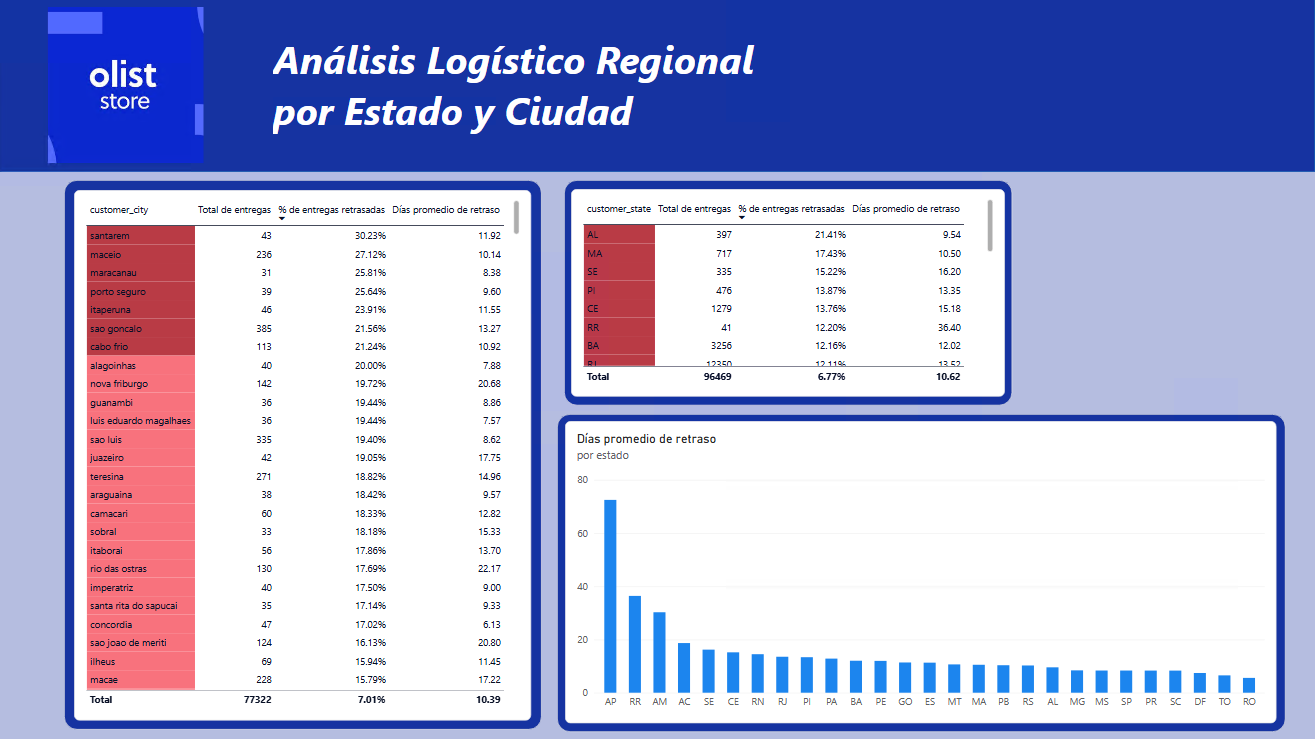

Layout of this report page (visuals, bound fields, positions):
{"tool":"powerbi","page":{"name":"Recuento","canvas":[1920,1080],"ordinal":1},"visuals":[{"type":"kpi","title":"Filtros","fields":{"Indicator":["Medidas.% de entregas retrasadas"]},"box":[824.6,263.8,653.6,329],"z":0},{"type":"kpi","title":"Filtros","fields":{"Indicator":["Medidas.% de entregas retrasadas"]},"box":[94.8,264.1,697.4,802.4],"z":1000},{"type":"tableEx","fields":{"Values":["public vw_entregas.customer_city","Medidas.Total de entregas","Medidas.% de entregas retrasadas","Medidas.Días promedio de retraso"]},"box":[110.1,278.3,666.7,773.7],"z":2000},{"type":"kpi","title":"Filtros","fields":{"Indicator":["Medidas.% de entregas retrasadas"]},"box":[814.1,605.1,1062.6,463.6],"z":3000},{"type":"clusteredColumnChart","title":"Días promedio de retraso","fields":{"Category":["public vw_entregas.customer_state"],"Y":["Medidas.Días promedio de retraso"]},"box":[825.5,616,1038.4,441.4],"z":4000},{"type":"tableEx","fields":{"Values":["public vw_entregas.customer_state","Medidas.Total de entregas","Medidas.% de entregas retrasadas","Medidas.Días promedio de retraso"]},"box":[834.8,276.8,633.3,302.9],"z":5000},{"type":"shape","box":[0,0,1920,252.4],"z":5001},{"type":"image","box":[59,12,253,227.7],"z":5002},{"type":"textbox","box":[399.8,49.6,803.9,150.3],"z":5003}]}

Visuals, with their boxes in screenshot pixels (x1, y1, x2, y2), scaled from the page's 1920x1080 canvas onto the 1315x739 screenshot:
"Filtros" kpi: left=565, top=181, right=1012, bottom=406
"Filtros" kpi: left=65, top=181, right=543, bottom=730
tableEx - public vw_entregas.customer_city x Medidas.Total de entregas: left=75, top=190, right=532, bottom=720
"Filtros" kpi: left=558, top=414, right=1285, bottom=731
"Días promedio de retraso" clusteredColumnChart: left=565, top=422, right=1277, bottom=724
tableEx - public vw_entregas.customer_state x Medidas.Total de entregas: left=572, top=189, right=1005, bottom=397
shape: left=0, top=0, right=1314, bottom=173
image: left=40, top=8, right=214, bottom=164
textbox: left=274, top=34, right=824, bottom=137
